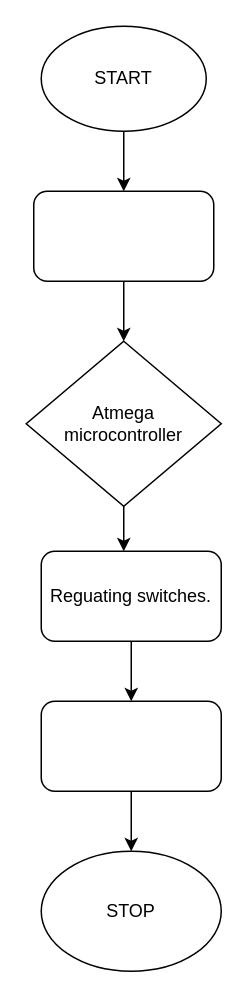
Image size: 248x998. Some labels were removed from this diagram. The shapes that lost their labels are listed below. From the top down, each one's centre as x and y in pixels, then its label:
[123,235]: Resistors
[130,745]: DCmotor
